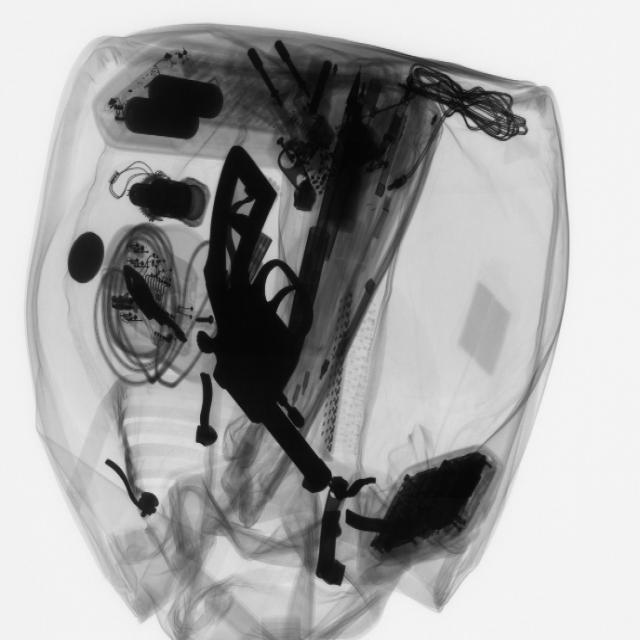GUN: (200, 143, 328, 496)
